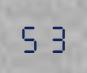five: (19, 20, 42, 53)
three: (43, 20, 66, 53)
